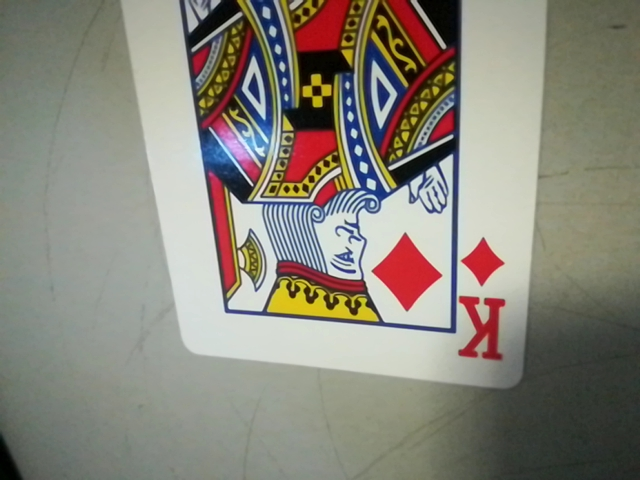fk k: (449, 233, 518, 370)
